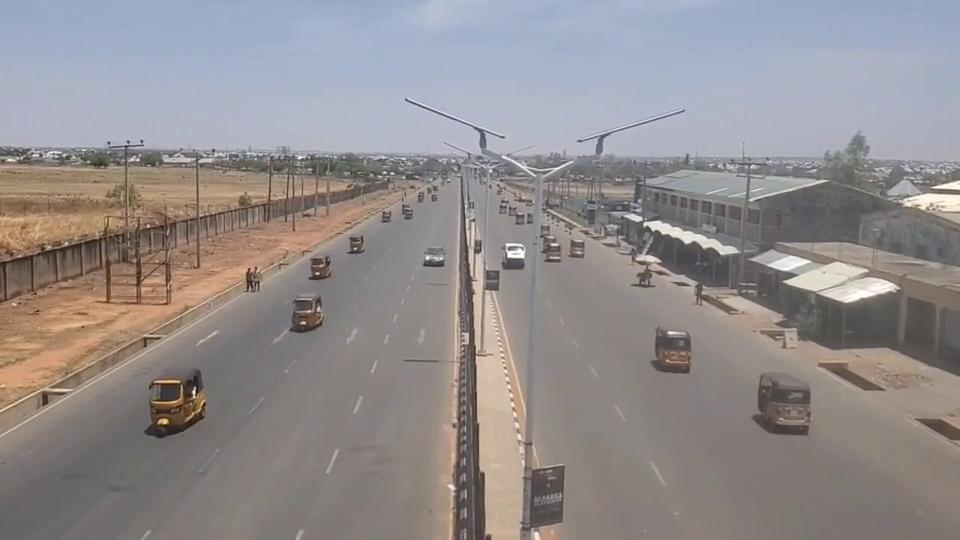keke: (147, 367, 206, 433), (756, 371, 811, 432), (653, 325, 691, 371), (290, 291, 323, 331)
